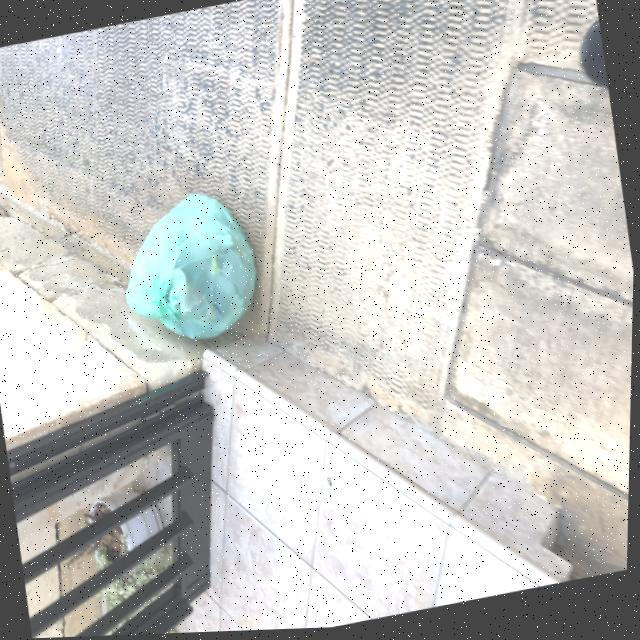Recycled Waste -Grey or Green Bag-: (112, 183, 269, 355)
